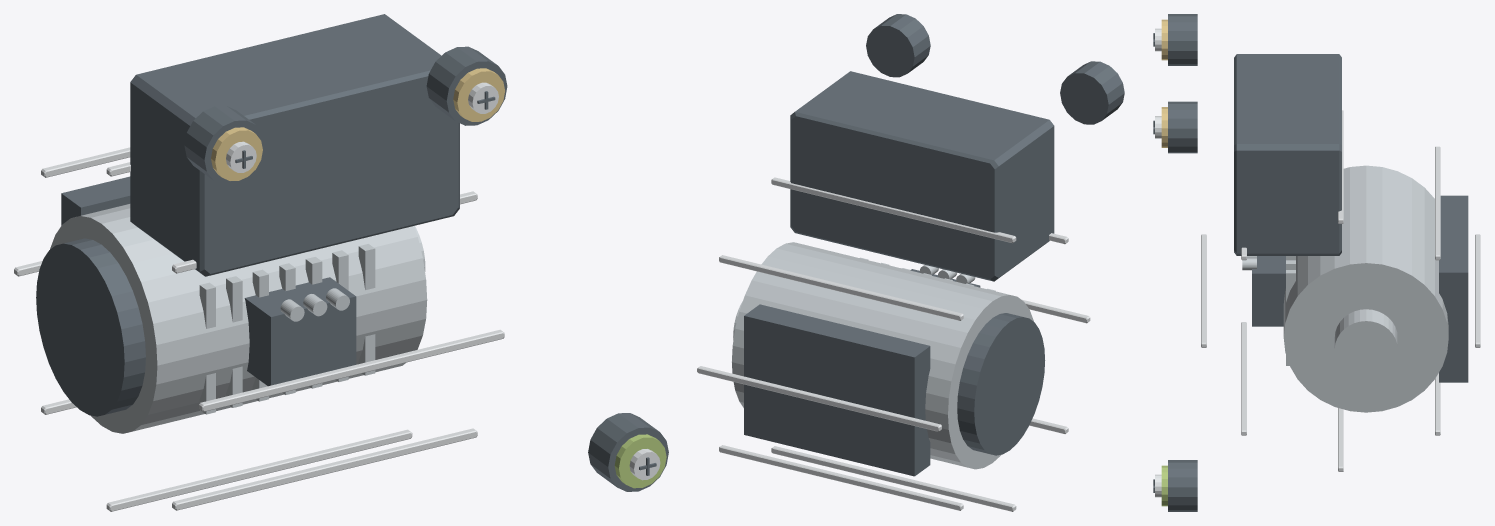
Rendered from motor1Phase.glb.
3 renders of one model, left to right at view 1: azimuth 30°, elevation 25°; view 2: azimuth 150°, elevation 25°; view 3: azimuth 270°, elevation 25°, orthographic. The views are drawn at different scales.
Parts seen in each view (by area): view 1: motor1Phase-preview; view 2: motor1Phase-preview; view 3: motor1Phase-preview.
Boxes of the visible parts, bbox=[...] form: motor1Phase-preview: bbox=[14, 14, 668, 511]; motor1Phase-preview: bbox=[697, 14, 1124, 511]; motor1Phase-preview: bbox=[1153, 14, 1480, 511].
Size of the model in its own units: 2.4 by 2.33 by 1.98.
